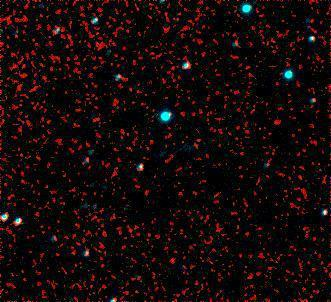star: (150, 244, 180, 274)
